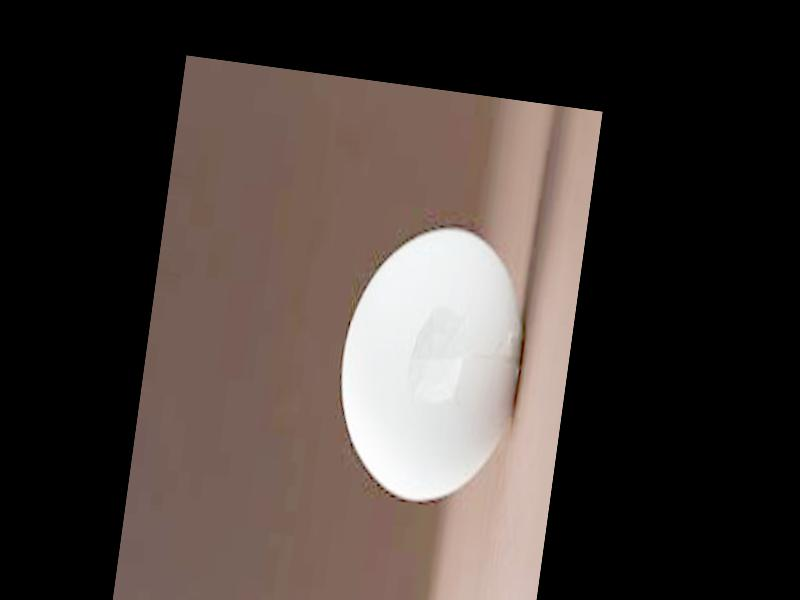Eggs: (325, 220, 537, 511)
